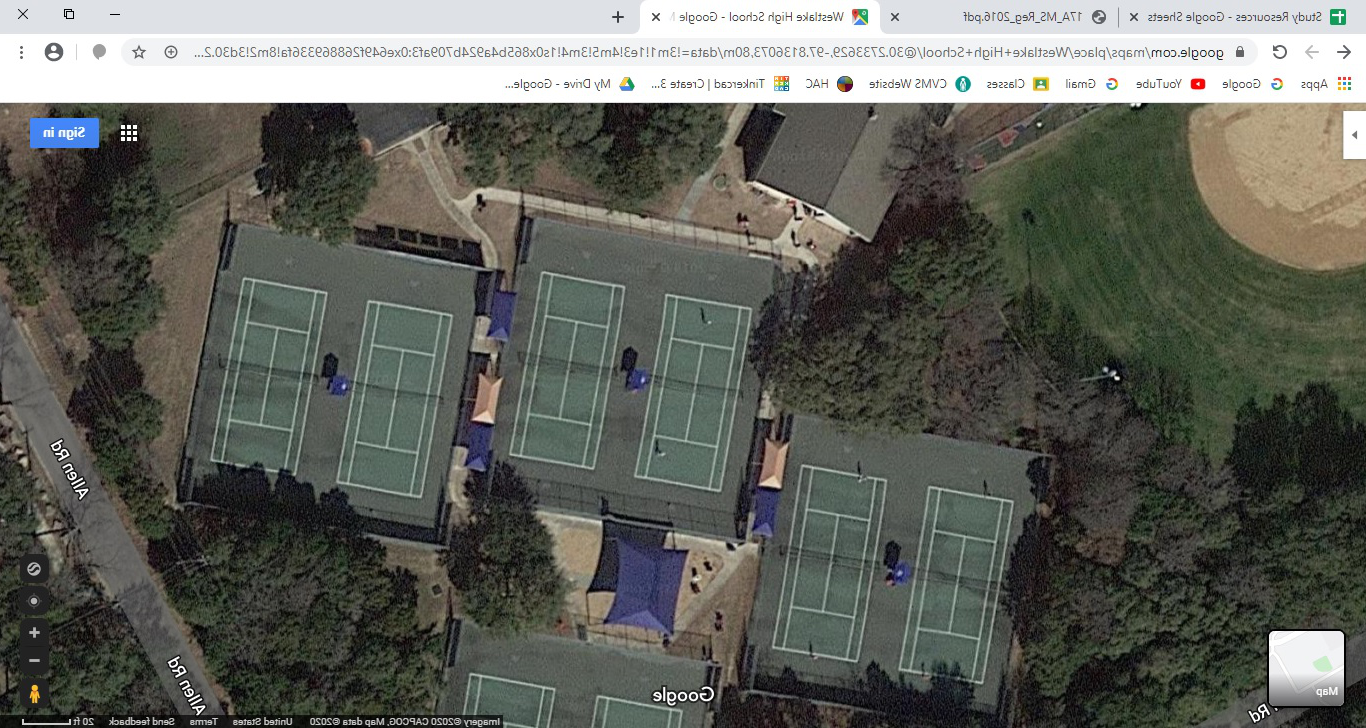tennis: (163, 260, 321, 504), (161, 258, 319, 502), (512, 249, 632, 496), (771, 442, 881, 669)
